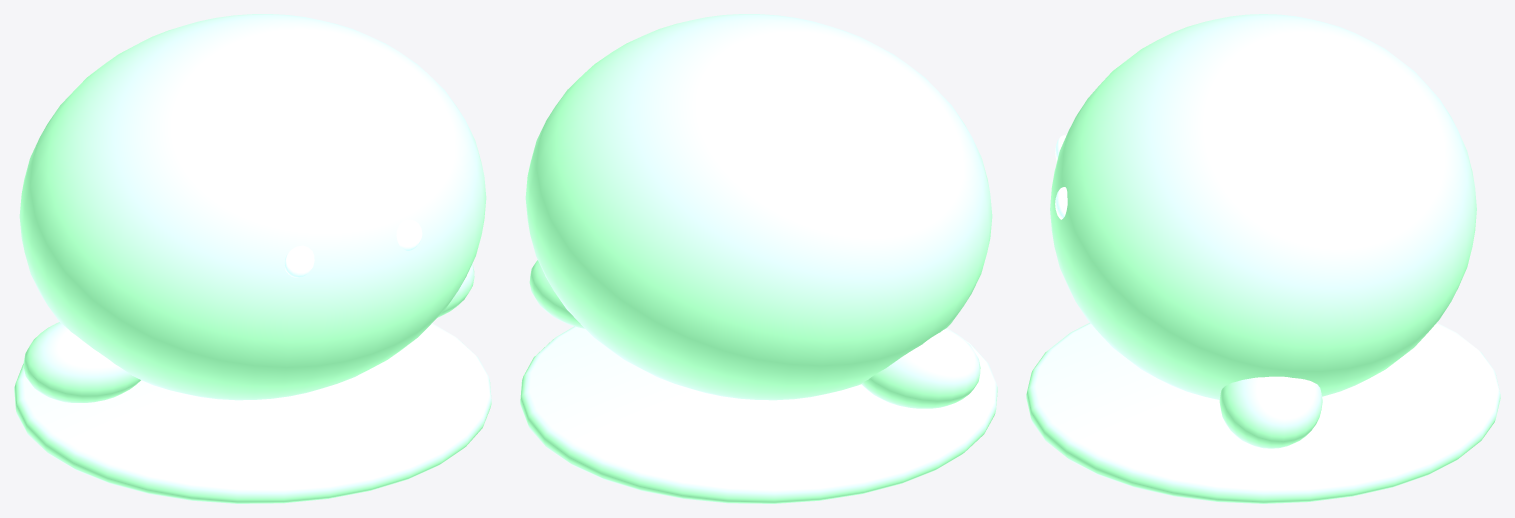
The model's file is slime.glb.
The picture shows the model from 3 angles, left to right: view 1: azimuth 30°, elevation 25°; view 2: azimuth 150°, elevation 25°; view 3: azimuth 270°, elevation 25°; orthographic projection.
Visible parts, largest first — view 1: Slime_Body, Slime_Puddle, Slime_Drip, Eye, Eye.001; view 2: Slime_Body, Slime_Puddle, Slime_Drip, Slime_Drip.001; view 3: Slime_Body, Slime_Puddle, Slime_Drip.001.
Boxes of the visible parts, bbox=[...] form: Slime_Body: bbox=[19, 14, 486, 400]; Slime_Puddle: bbox=[14, 323, 491, 503]; Slime_Drip: bbox=[23, 322, 140, 402]; Eye: bbox=[284, 245, 314, 277]; Eye.001: bbox=[396, 219, 422, 250]; Slime_Body: bbox=[525, 14, 992, 400]; Slime_Puddle: bbox=[520, 326, 997, 503]; Slime_Drip: bbox=[861, 328, 980, 408]; Slime_Drip.001: bbox=[529, 260, 584, 328]; Slime_Body: bbox=[1050, 14, 1476, 399]; Slime_Puddle: bbox=[1026, 323, 1500, 503]; Slime_Drip.001: bbox=[1219, 376, 1322, 448].
Size of the model in its own units: 1.32 by 1.05 by 1.24.
